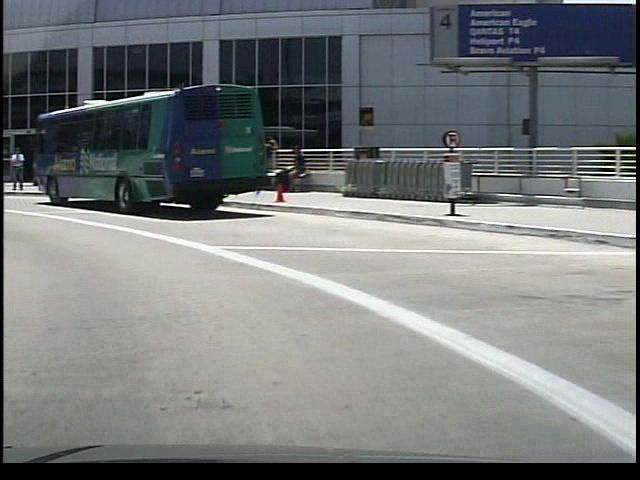person: (271, 144, 300, 197), (8, 143, 25, 195)
